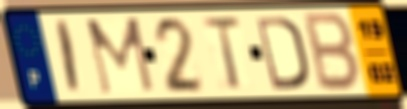2: (154, 15, 206, 94)
B: (302, 10, 363, 94)
D: (253, 14, 311, 92)
I: (55, 17, 82, 97)
M: (83, 15, 157, 98)
T: (199, 14, 244, 93)
